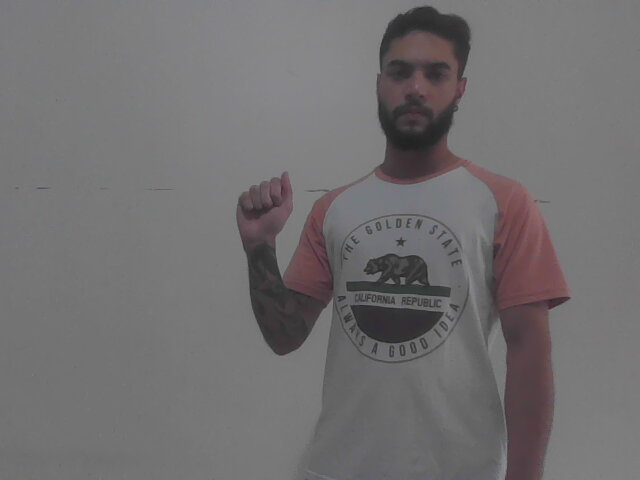a: (232, 169, 299, 248)
